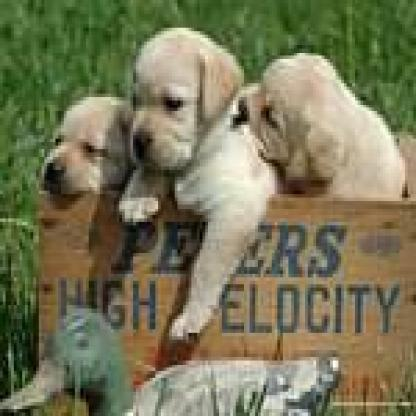Labarador Retriever: (120, 29, 275, 347), (239, 53, 406, 202), (45, 95, 140, 207)
